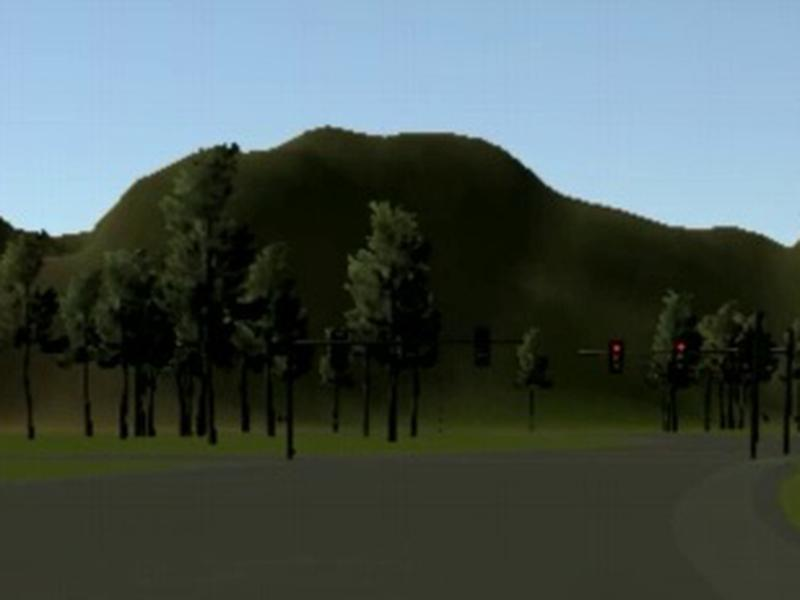Red: (607, 338, 627, 375), (671, 341, 691, 376)
